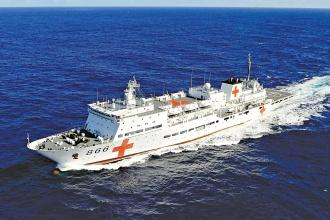warship: (26, 54, 306, 171)
